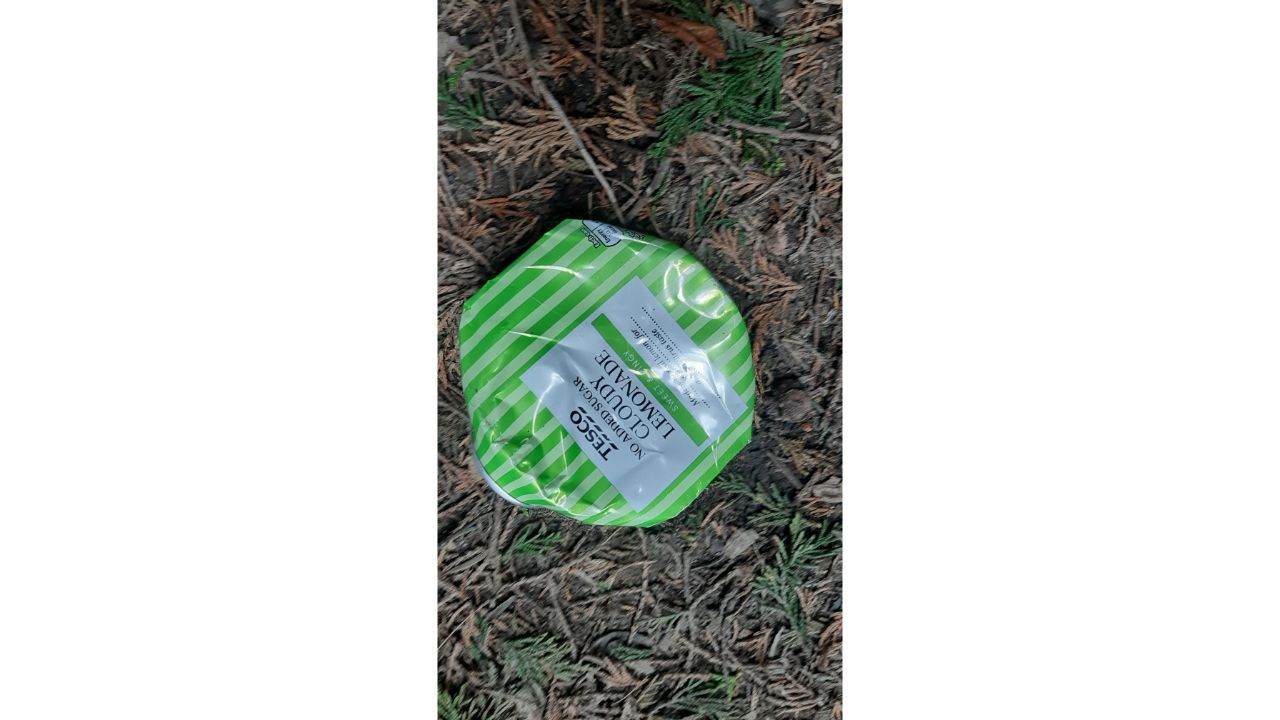Can: (457, 218, 759, 532)
